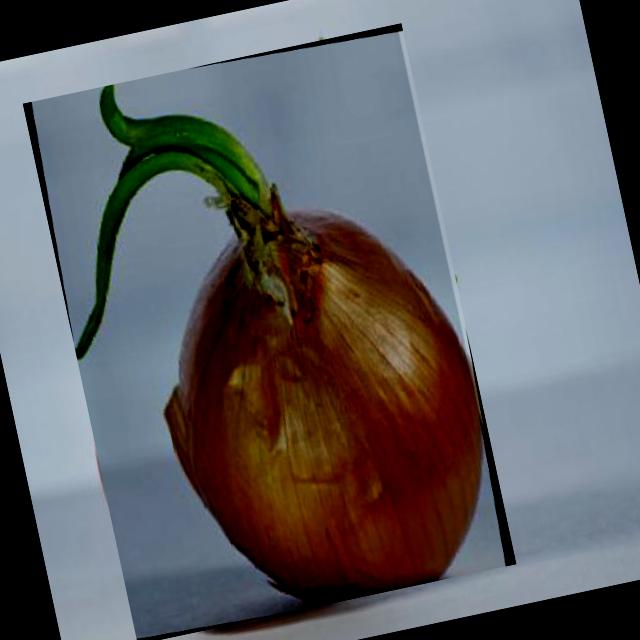sprouting: (76, 84, 482, 600)
